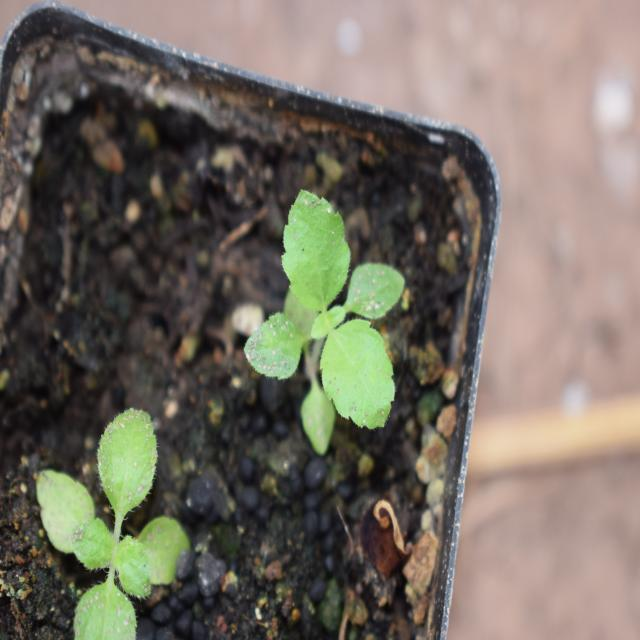billygoat_weed: (239, 196, 416, 462), (27, 390, 185, 636)
